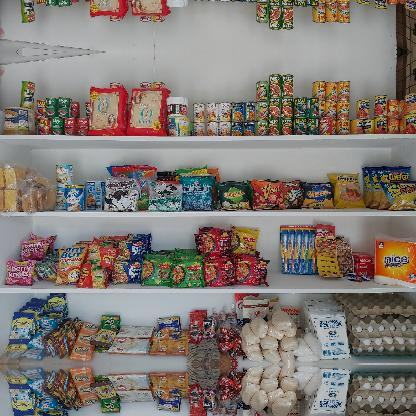Lady-s-Choice: (2, 106, 36, 134)
